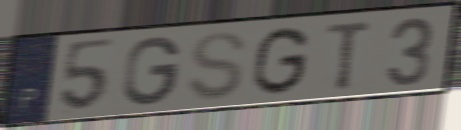3: (384, 15, 435, 88)
5: (57, 35, 120, 115)
G: (120, 34, 184, 109), (249, 24, 313, 98)
S: (184, 29, 250, 103)
T: (324, 17, 375, 93)
